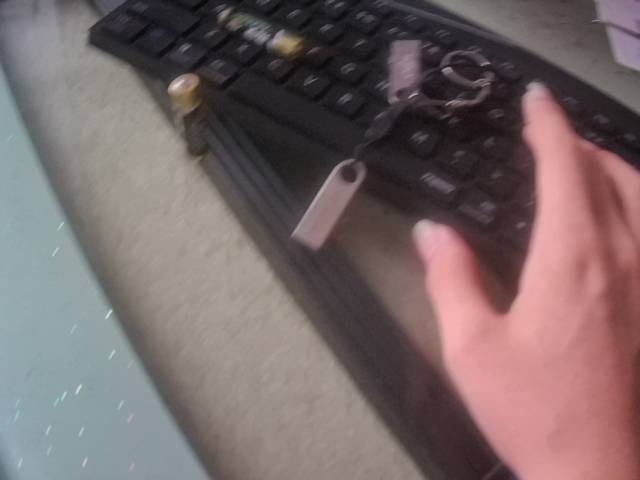U-disk: (288, 152, 373, 255), (381, 39, 489, 109)
battery: (208, 3, 307, 61), (163, 72, 215, 164)
